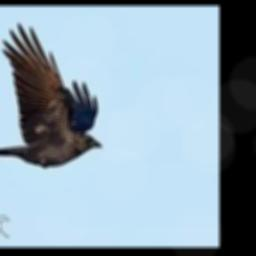Crow: (0, 24, 101, 167)
